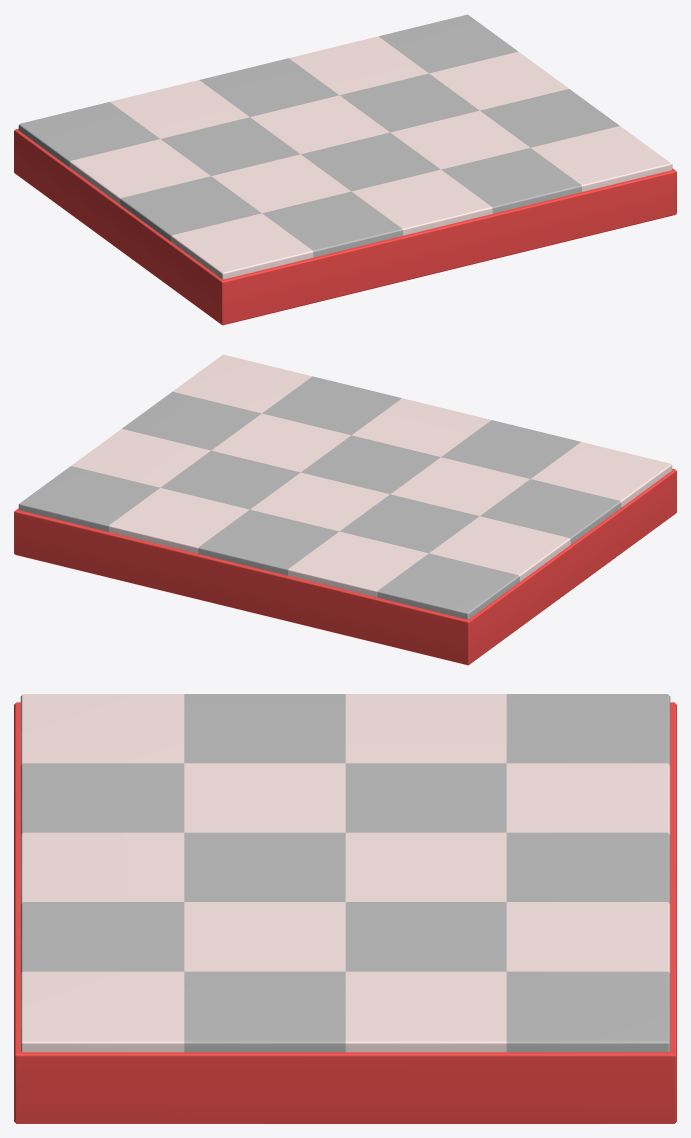
File: Store_12_Base_1.glb
3 views of the same model, one above another, from view 1: azimuth 30°, elevation 25°; view 2: azimuth 150°, elevation 25°; view 3: azimuth 270°, elevation 25° (orthographic). The views are drawn at different scales.
Visible parts, largest first — view 1: Store_12_Base_1; view 2: Store_12_Base_1; view 3: Store_12_Base_1.
Boxes of the visible parts, x1,y1,x2,y2 form: Store_12_Base_1: (14, 14, 676, 325); Store_12_Base_1: (14, 354, 676, 665); Store_12_Base_1: (14, 694, 676, 1123).
Bounding box in the file's own units: 15.07 × 1.61 × 11.95.
1 material, 1 textured.
